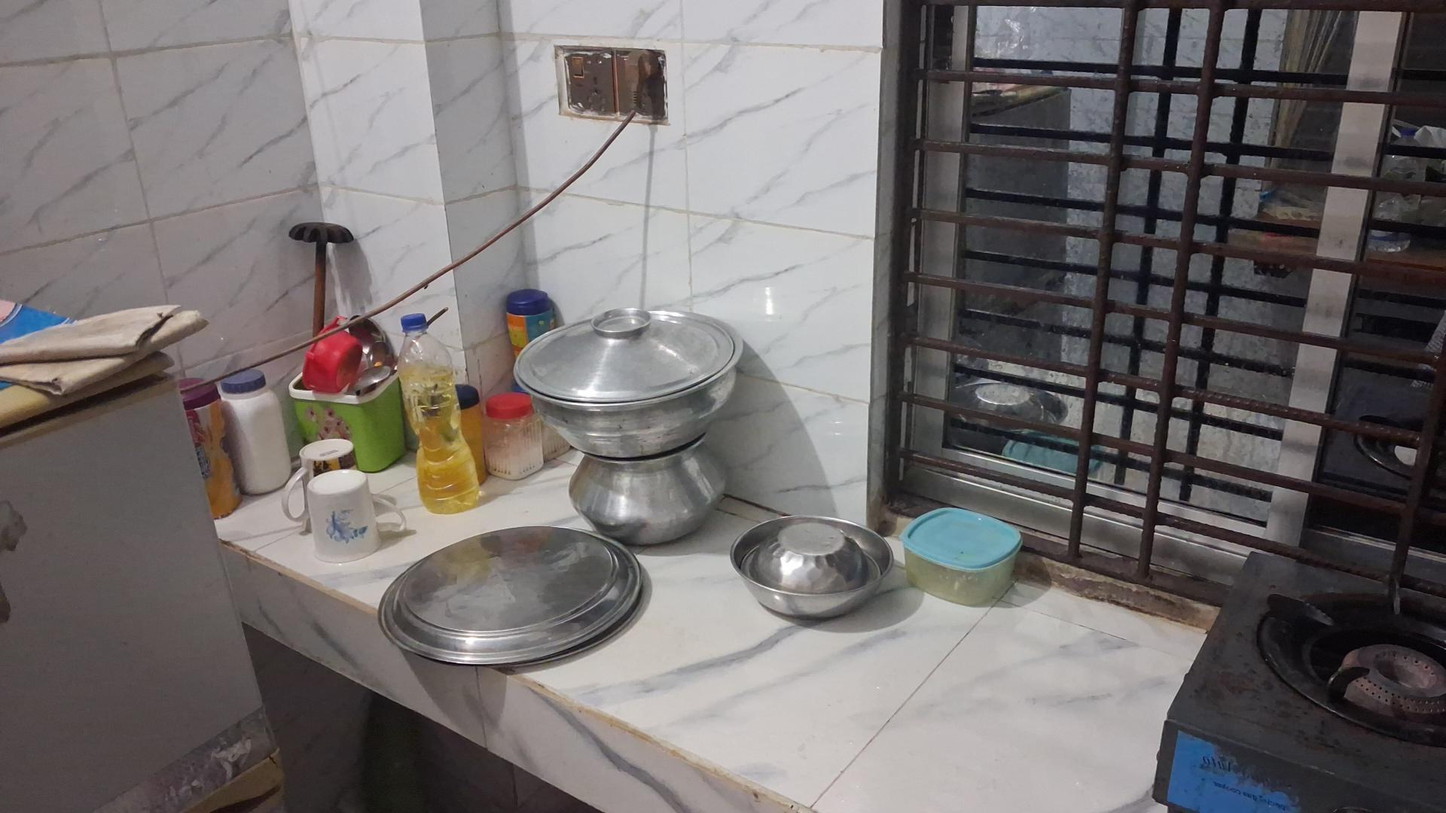Bottle: (399, 315, 482, 513)
Bowl: (731, 511, 889, 615)
Cup: (307, 471, 408, 563)
Jar: (904, 505, 1023, 610), (174, 378, 241, 518), (222, 375, 298, 492), (486, 389, 543, 481)
Plate: (379, 534, 657, 662)
Pot: (513, 313, 746, 457), (565, 446, 730, 551)
